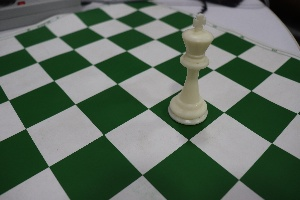white_king: (160, 8, 220, 128)
